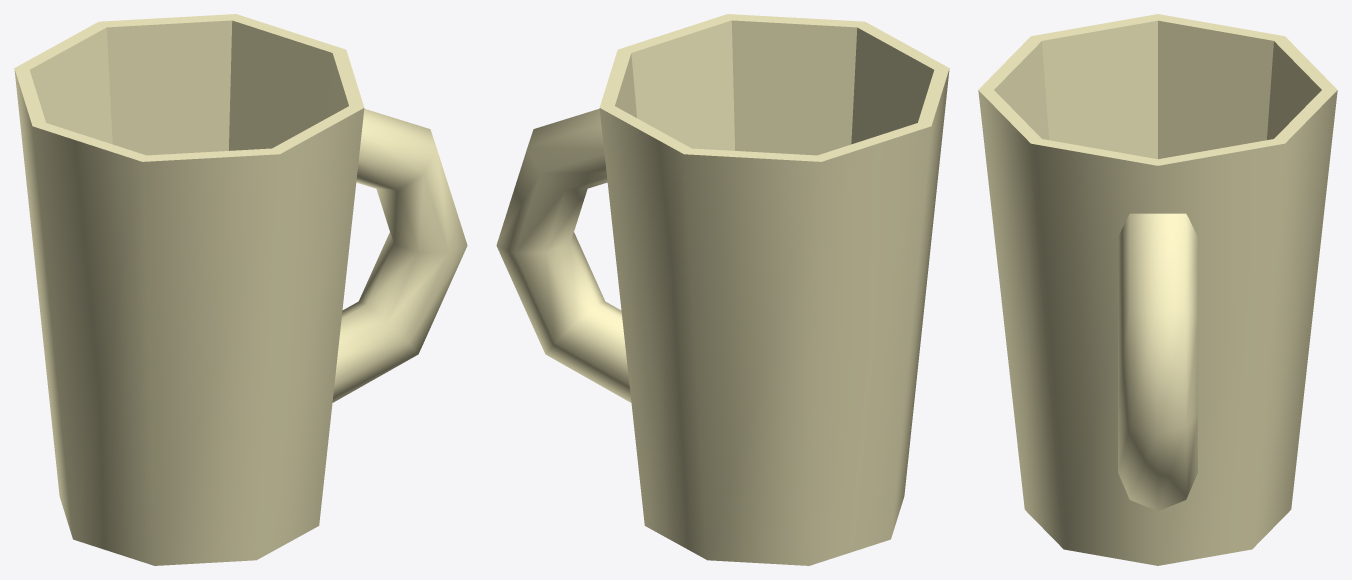
The model's file is Itr_Obj_Cup2_02.FBX.
3 views of the same model, side by side, from view 1: azimuth 30°, elevation 25°; view 2: azimuth 150°, elevation 25°; view 3: azimuth 270°, elevation 25° (orthographic).
Parts seen in each view (by area): view 1: Itr_Obj_Cup2_02; view 2: Itr_Obj_Cup2_02; view 3: Itr_Obj_Cup2_02.
Part boxes in pixels (<box>): Itr_Obj_Cup2_02: <box>14,14,467,565</box>; Itr_Obj_Cup2_02: <box>496,14,949,565</box>; Itr_Obj_Cup2_02: <box>978,14,1337,565</box>.
Size of the model in its own units: 5.97 by 5.6 by 4.35.
